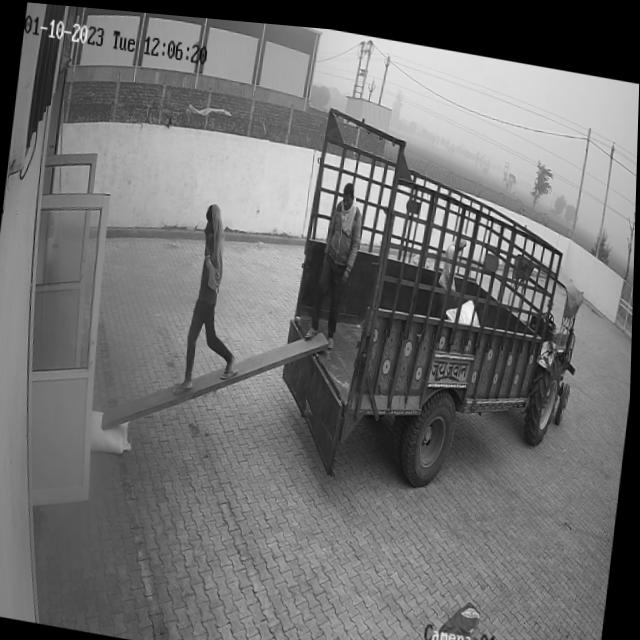sack: (90, 406, 136, 451)
